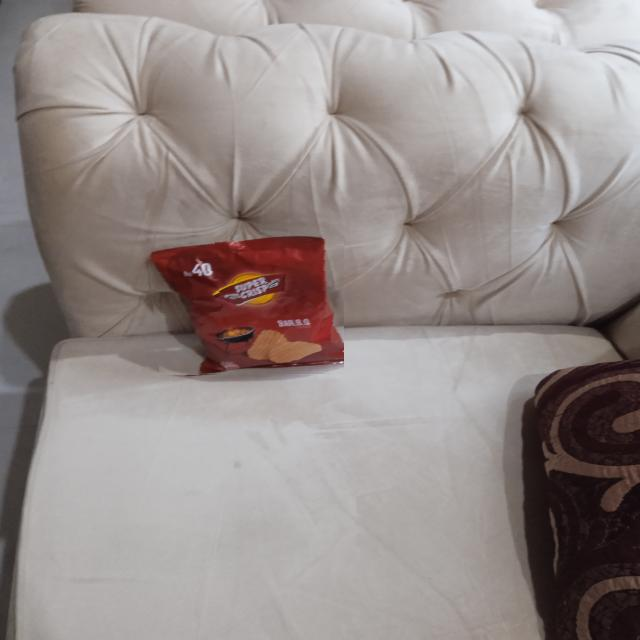Plastic: (146, 236, 344, 376)
